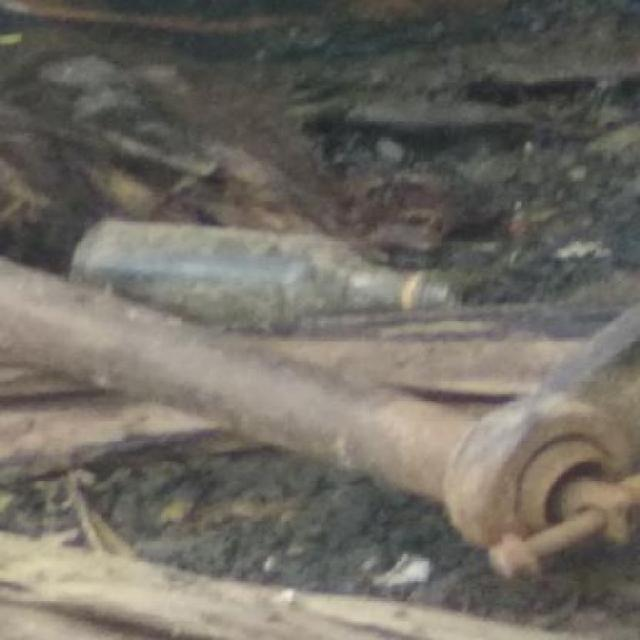garbage: (41, 180, 496, 344)
